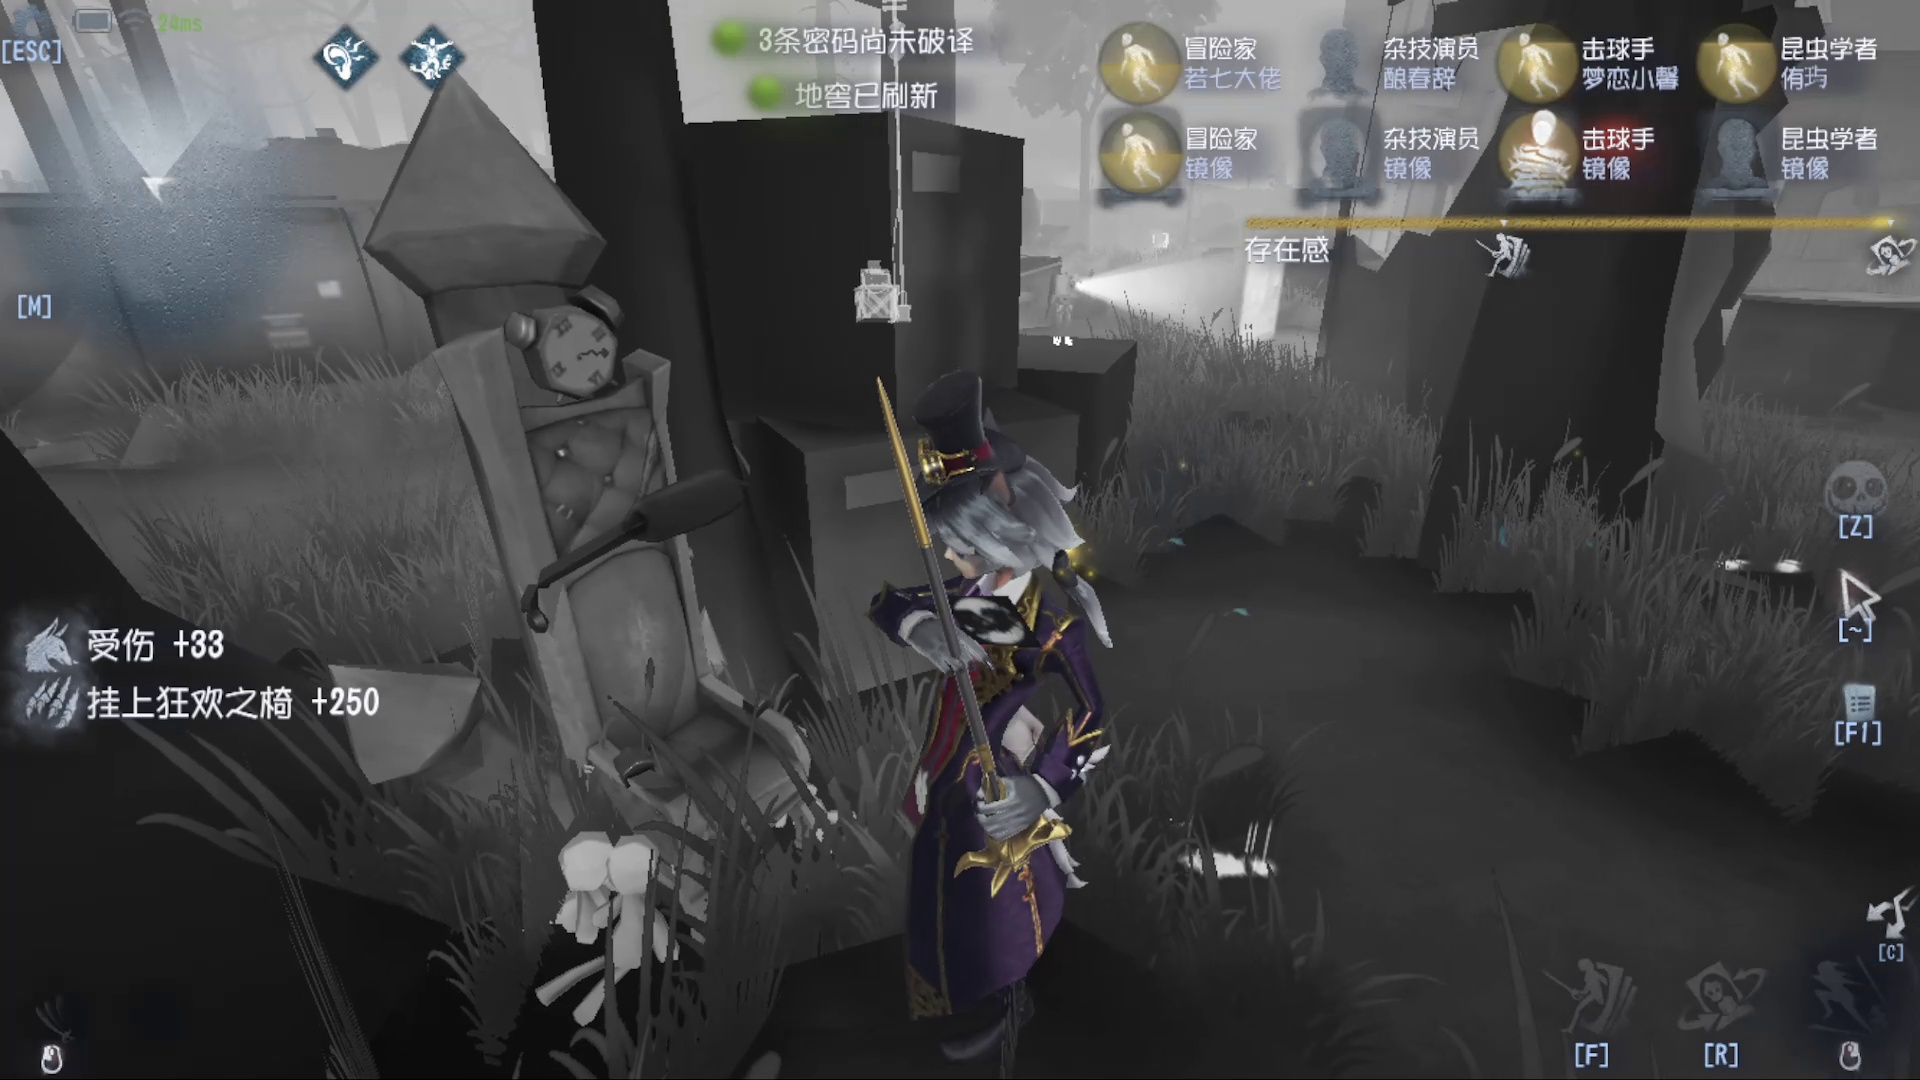狂欢之椅: (334, 107, 864, 915)
